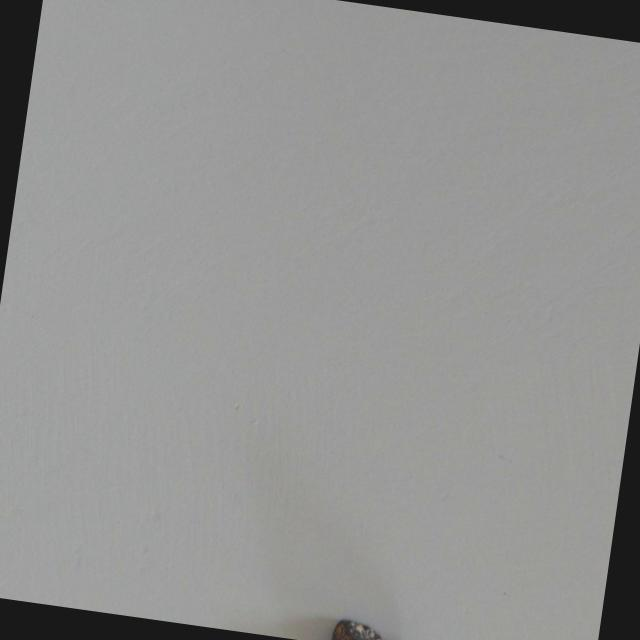cuerpos_extranos: (319, 613, 442, 640)
